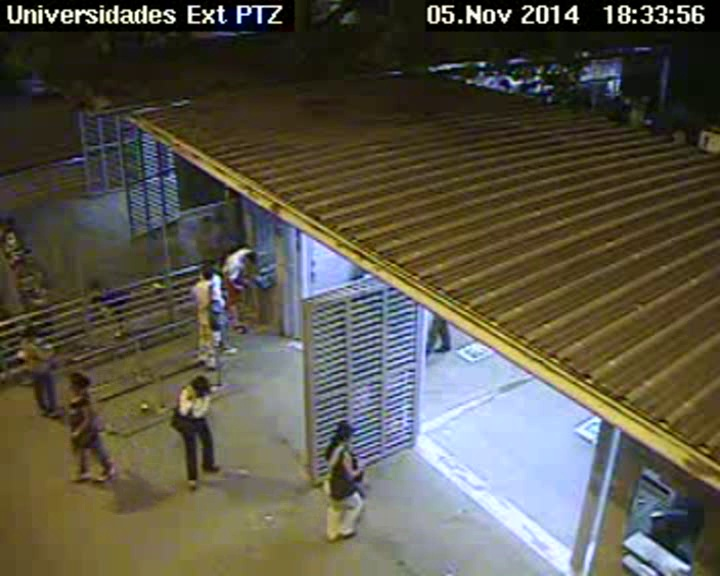person: (68, 371, 88, 394), (335, 420, 354, 441), (191, 375, 210, 396), (240, 247, 258, 267), (26, 325, 42, 341), (199, 267, 213, 282), (199, 216, 213, 231), (88, 281, 102, 295), (4, 215, 16, 227)
